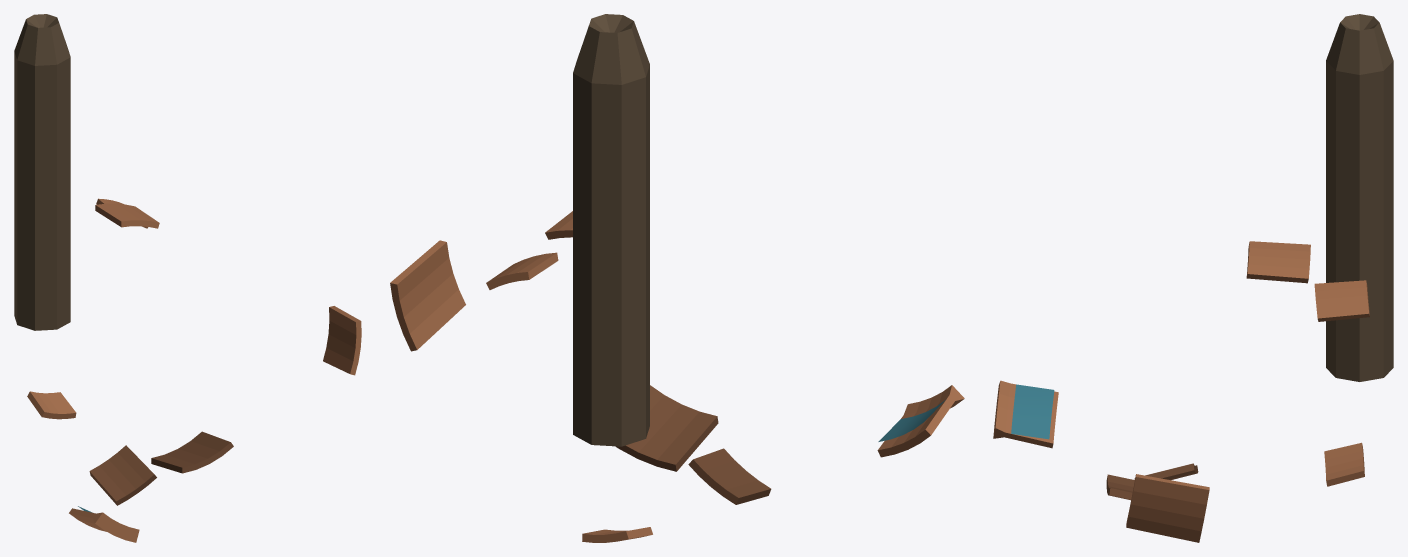
Rendered from lake-cherepki-shallows-1.glb.
3 renders of one model, left to right at view 1: azimuth 30°, elevation 25°; view 2: azimuth 150°, elevation 25°; view 3: azimuth 270°, elevation 25°, orthographic. The views are drawn at different scales.
Parts seen in each view (by area): view 1: lake-cherepki-shallows-1; view 2: lake-cherepki-shallows-1; view 3: lake-cherepki-shallows-1.
Part boxes in pixels (box(x1,y1,x2,y2)): lake-cherepki-shallows-1: box(14, 14, 361, 542); lake-cherepki-shallows-1: box(390, 14, 964, 542); lake-cherepki-shallows-1: box(993, 14, 1393, 542).
Size of the model in its own units: 0.6275 by 0.744 by 0.5672.
